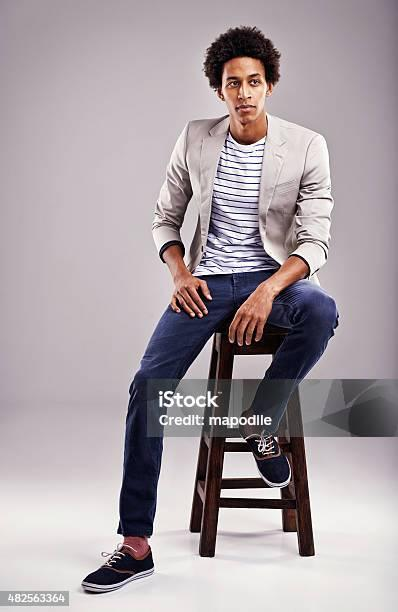jacket: (149, 112, 337, 294)
short sleeve shirt: (192, 132, 281, 277)
trousers: (115, 267, 341, 539)
